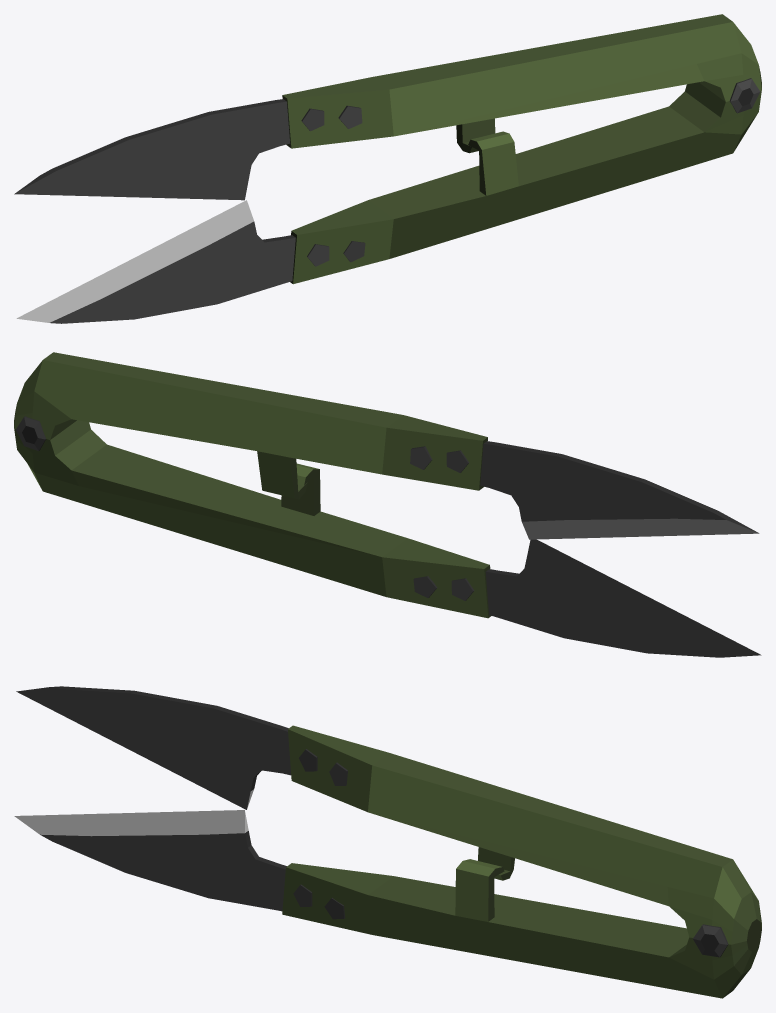
Rendered from ArmyScissors.fbx.
The picture shows the model from 3 angles, top to bottom: view 1: azimuth 30°, elevation 25°; view 2: azimuth 150°, elevation 25°; view 3: azimuth 330°, elevation 25°; orthographic projection.
Visible parts, largest first — view 1: ZomboidArmyScissors; view 2: ZomboidArmyScissors; view 3: ZomboidArmyScissors.
Part boxes in pixels (x1=…): ZomboidArmyScissors: x1=14, y1=14, x2=761, y2=323; ZomboidArmyScissors: x1=14, y1=352, x2=761, y2=657; ZomboidArmyScissors: x1=14, y1=686, x2=761, y2=998.
Size of the model in its own units: 0.1927 by 0.0462 by 0.0171.
